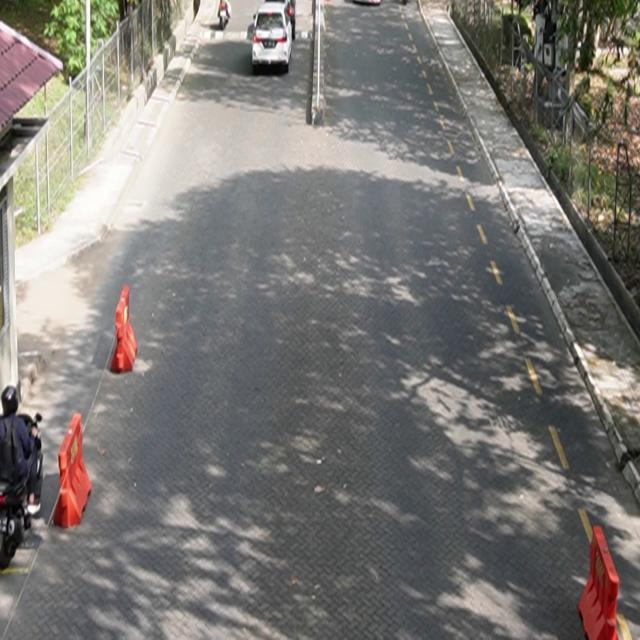car: (252, 3, 294, 74)
